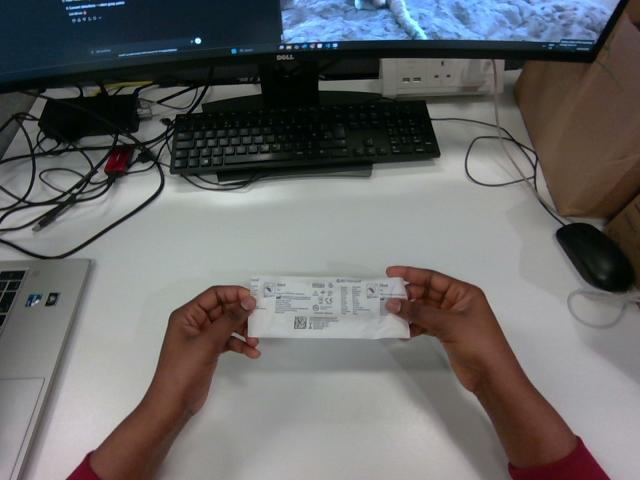syringe: (248, 276, 409, 338)
